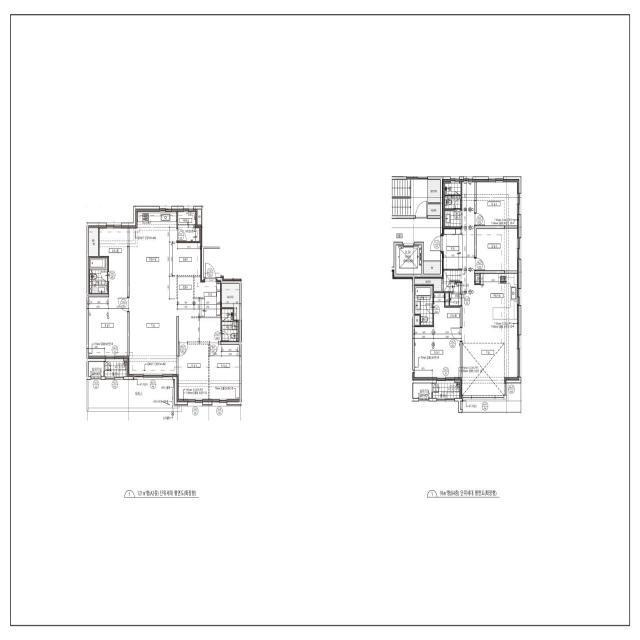space_balconi: (433, 383, 460, 398), (105, 362, 127, 377)
space_bedroom: (413, 327, 460, 380), (89, 297, 127, 359), (477, 180, 519, 226), (177, 344, 209, 402), (477, 229, 519, 271), (209, 345, 239, 402)
space_dressroom: (99, 226, 127, 297), (434, 293, 460, 327)
space_elevator: (396, 245, 421, 274)
space_elevator_hall: (392, 219, 440, 261)
space_front: (195, 277, 221, 316), (441, 229, 462, 269)
space_kitchen: (129, 209, 202, 277), (481, 274, 519, 320)
space_living_room: (461, 180, 519, 398), (128, 277, 221, 377)
space_multipurpose_space: (178, 209, 199, 241)
space_other: (222, 284, 239, 320), (415, 277, 443, 291), (178, 277, 193, 299), (89, 226, 98, 256), (428, 180, 440, 202), (450, 283, 460, 306), (424, 261, 440, 274), (428, 204, 440, 216), (197, 210, 202, 224), (445, 293, 449, 306), (415, 316, 419, 325), (476, 274, 479, 283)
space_outdoor_room: (413, 383, 432, 398), (89, 362, 104, 377)
space_staircase: (392, 179, 428, 215), (443, 271, 462, 292)
space_toilet: (444, 183, 461, 227), (415, 286, 433, 325), (90, 258, 107, 293), (222, 309, 238, 341)
